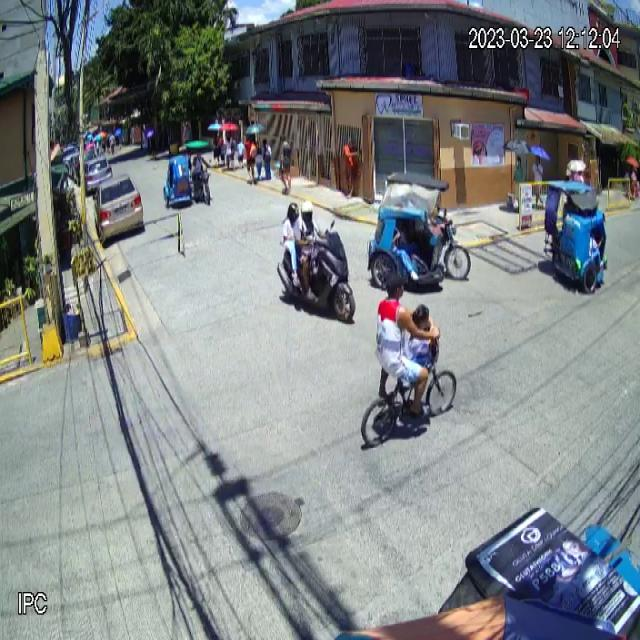Motorcycle: (276, 218, 356, 323)
Tricycle: (367, 172, 471, 290), (544, 180, 608, 294), (164, 140, 213, 208)
